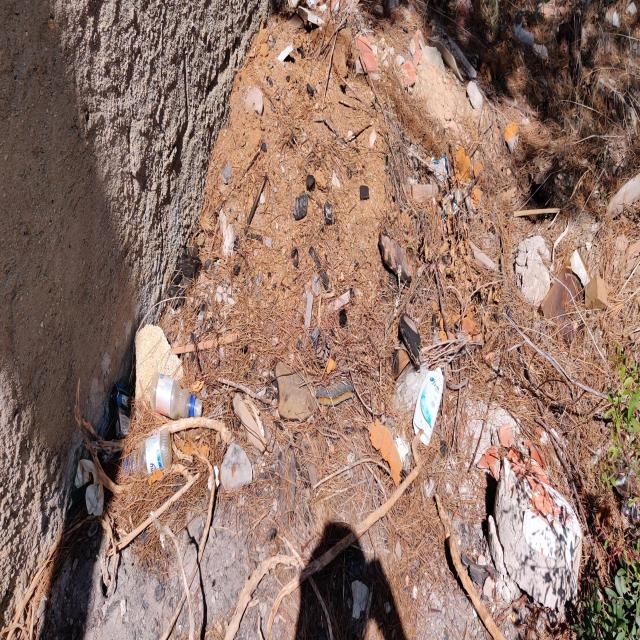litter: (413, 366, 444, 445), (129, 429, 173, 474), (150, 372, 191, 419), (110, 381, 131, 441), (189, 395, 203, 417), (123, 459, 130, 472)
